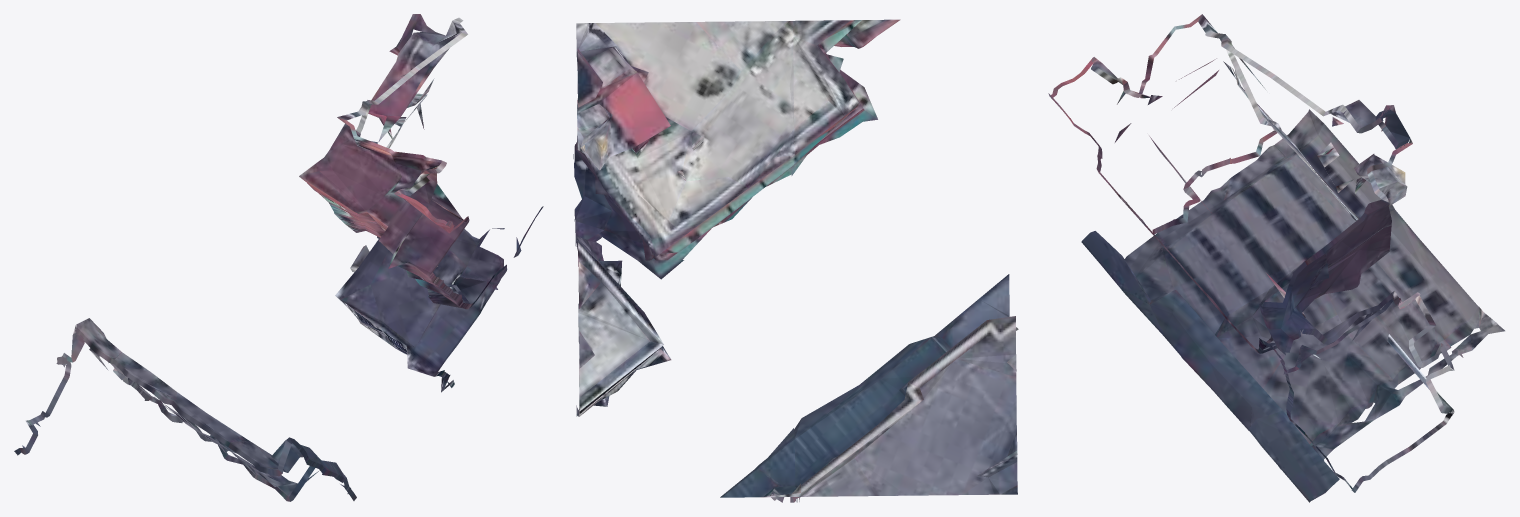
The picture shows the model from 3 angles, left to right: view 1: azimuth 30°, elevation 25°; view 2: azimuth 150°, elevation 25°; view 3: azimuth 270°, elevation 25°; orthographic projection. The views are drawn at different scales.
Size of the model in its own units: 46.06 by 40.7 by 36.96.
Materials: 2 (2 with a texture image).
